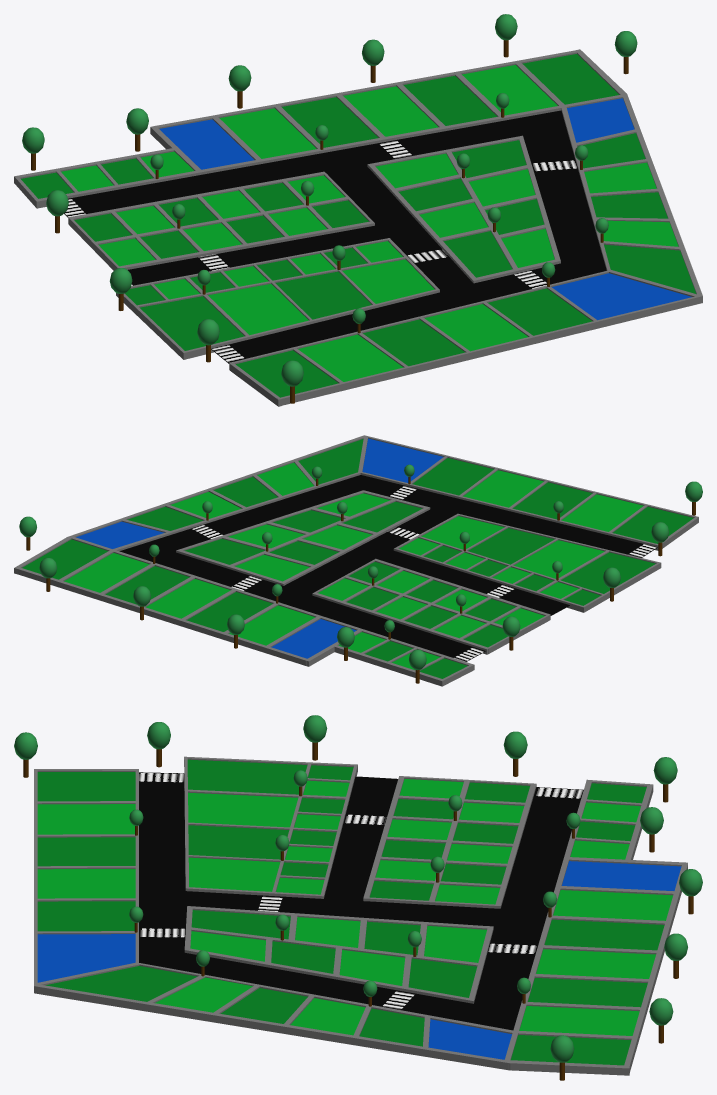
The model's file is AR_Work.glb.
The picture shows the model from 3 angles, top to bottom: view 1: azimuth 30°, elevation 25°; view 2: azimuth 150°, elevation 25°; view 3: azimuth 270°, elevation 25°; orthographic projection. The views are drawn at different scales.
Visible parts, largest first — view 1: pPlane1.001, pCube98, pCube6, pCube96, pCube21, pCube40, pCube48, pCube2, pCube44, pCube5, pCube19, pCube6.001 (+55 smaller); view 2: pPlane1.001, pCube100, pCube6, pCube21, pCube40, pCube2, pCube5, pCube19, pCube45, pCube4, pCube46, pCube48 (+54 smaller); view 3: pPlane1.001, pCube97, pCube6, pCube40, pCube21, pCube48, pCube47, pCube2, pCube4, pCube45, pCube5, pCube1 (+73 smaller).
Part boxes in pixels (x1,y1,x2,y2): pPlane1.001: (64, 110, 606, 363); pCube98: (277, 294, 702, 405); pCube6: (552, 273, 691, 320); pCube96: (39, 94, 622, 207); pCube21: (208, 284, 308, 335); pCube40: (140, 296, 244, 350); pCube48: (219, 108, 316, 158); pCube2: (298, 334, 403, 381); pCube44: (522, 54, 618, 104); pCube5: (487, 288, 592, 335); pCube19: (275, 271, 371, 319); pCube6.001: (604, 244, 696, 293); pPlane1.001: (119, 475, 657, 661); pCube100: (16, 567, 307, 665); pCube6: (362, 438, 443, 482); pCube21: (514, 540, 604, 578); pCube40: (561, 552, 655, 593); pCube2: (561, 494, 643, 531); pCube5: (412, 458, 493, 495); pCube19: (468, 528, 554, 564); pCube45: (64, 553, 149, 592); pCube4: (463, 470, 543, 507); pCube46: (146, 579, 230, 618); pCube48: (229, 605, 315, 645); pPlane1.001: (139, 772, 583, 1030); pCube97: (37, 984, 511, 1070); pCube6: (37, 934, 135, 982); pCube40: (187, 759, 307, 794); pCube21: (188, 792, 298, 827); pCube48: (553, 890, 672, 920); pCube47: (544, 919, 664, 950); pCube2: (37, 804, 135, 834); pCube4: (37, 869, 135, 898); pCube45: (519, 1006, 639, 1035); pCube5: (37, 901, 135, 931); pCube1: (37, 772, 135, 801).
Size of the model in its own units: 0.8554 by 0.059 by 0.7568.
Materials: 8 (1 with a texture image).
